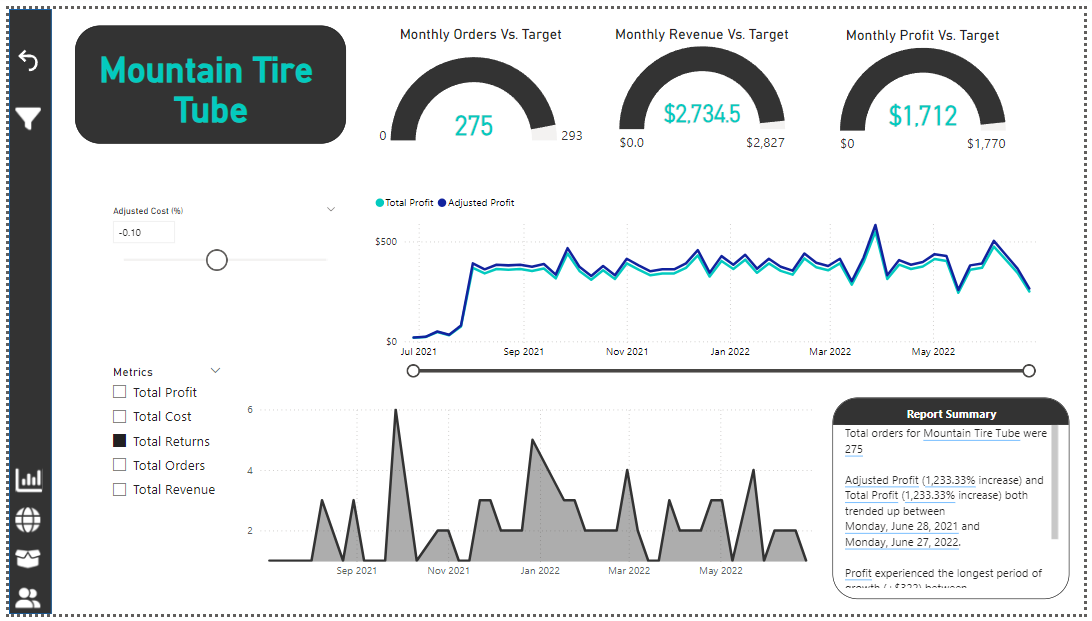

The page's visual inventory and layout, read from the dashboard file:
{"tool":"powerbi","page":{"name":"Product Details","canvas":[1280,720],"ordinal":2},"visuals":[{"type":"actionButton","box":[0,0,100,40],"z":0},{"type":"actionButton","box":[3.3,541.7,48.3,40],"z":0,"group":"g1"},{"type":"lineChart","fields":{"Y":["Measure Table.Total Returns"],"Category":["Calendar Lookup.Start of Week"]},"box":[270,462,710,224],"z":1000},{"type":"actionButton","box":[4.1,589.1,45.6,37.8],"z":1000,"group":"g1"},{"type":"slicer","fields":{"Values":["Metrics.Metrics"]},"box":[110,418,154,180],"z":2000},{"type":"actionButton","box":[4.1,636.9,45.6,37.8],"z":2000,"group":"g1"},{"type":"lineChart","fields":{"Y":["Measure Table.Total Profit","Measure Table.Adjusted Profit"],"Category":["Calendar Lookup.Start of Week"]},"box":[431.1,211,815.1,230.7],"z":3000},{"type":"actionButton","box":[4.1,683.6,45.6,37.8],"z":3000,"group":"g1"},{"type":"slicer","fields":{"Values":["Adjusted Cost (%).Adjusted Cost (%)"]},"box":[110,228,290,112],"z":4000},{"type":"gauge","title":"Monthly Orders Vs. Target","fields":{"Y":["Measure Table.Total Orders"],"MaxValue":["Measure Table.Order Target"]},"box":[431.1,19.7,262.6,159.4],"z":5000},{"type":"card","fields":{"Values":["Min(Product Lookup.ProductName)"]},"box":[109.3,39.5,321.8,141.2],"z":6000},{"type":"gauge","title":"Monthly Revenue Vs. Target","fields":{"Y":["Measure Table.Total Revenue"],"MaxValue":["Measure Table.Revenue Target"]},"box":[693.6,19.7,264.1,159.4],"z":7000},{"type":"gauge","title":"Monthly Profit Vs. Target","fields":{"Y":["Measure Table.Total Profit"],"MaxValue":["Measure Table.Profit Target"]},"box":[957.7,21.2,261.1,159.4],"z":8000},{"type":"textbox","title":"Report Summary","box":[980,462,282,240],"z":9000},{"type":"shape","box":[0,0,50.8,720.5],"z":9001},{"type":"group","id":"g1","title":"Navigation Buttons","box":[3.3,541.7,48.3,178.3],"z":9002},{"type":"actionButton","box":[5,43.3,35,36.7],"z":9003},{"type":"actionButton","box":[3.3,110,38.3,40],"z":9004}]}

Visuals, with their boxes on the page's 1280x720 design canvas (x1, y1, x2, y2). These are canvas units, not pixel positions in the 1092x621 screenshot, which may show the page scaled, cropped or inside an application window:
actionButton: select_region(0, 0, 100, 40)
actionButton: select_region(3, 542, 52, 582)
lineChart - Measure Table.Total Returns x Calendar Lookup.Start of Week: select_region(270, 462, 980, 686)
actionButton: select_region(4, 589, 50, 627)
slicer - Metrics.Metrics: select_region(110, 418, 264, 598)
actionButton: select_region(4, 637, 50, 675)
lineChart - Measure Table.Total Profit x Measure Table.Adjusted Profit: select_region(431, 211, 1246, 442)
actionButton: select_region(4, 684, 50, 721)
slicer - Adjusted Cost (%).Adjusted Cost (%): select_region(110, 228, 400, 340)
"Monthly Orders Vs. Target" gauge: select_region(431, 20, 694, 179)
card - Min(Product Lookup.ProductName): select_region(109, 40, 431, 181)
"Monthly Revenue Vs. Target" gauge: select_region(694, 20, 958, 179)
"Monthly Profit Vs. Target" gauge: select_region(958, 21, 1219, 181)
"Report Summary" textbox: select_region(980, 462, 1262, 702)
shape: select_region(0, 0, 51, 720)
"Navigation Buttons" group: select_region(3, 542, 52, 720)
actionButton: select_region(5, 43, 40, 80)
actionButton: select_region(3, 110, 42, 150)
